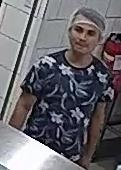no_apron: (25, 20, 109, 160)
